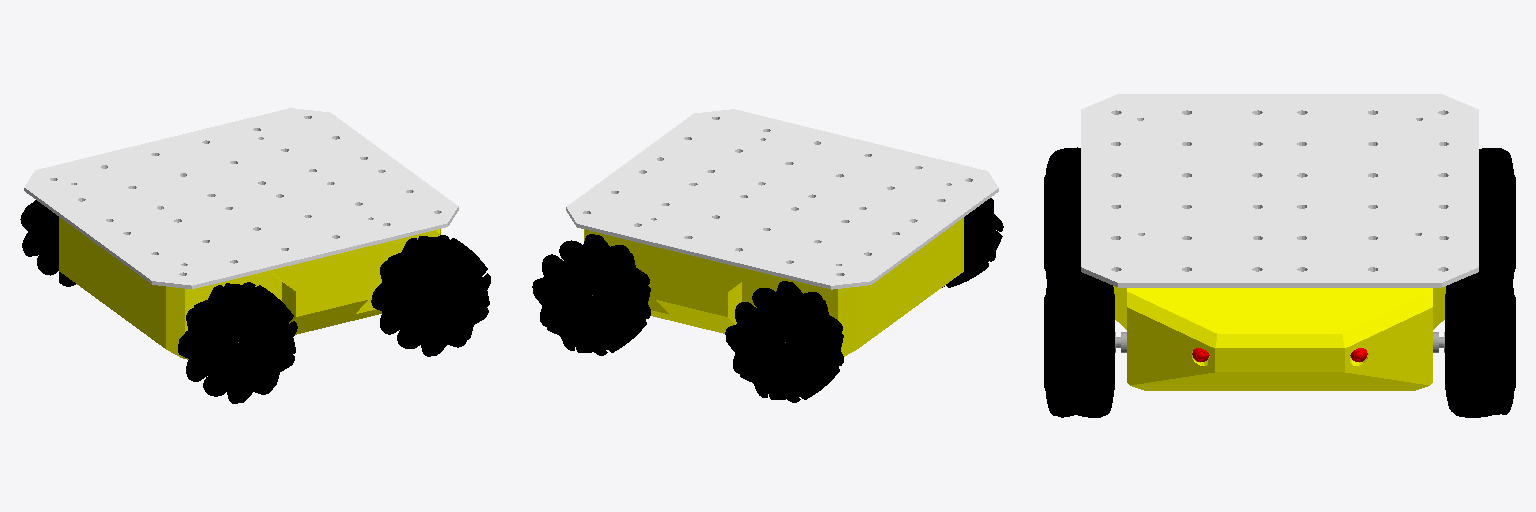
The robot description file, URDF, robot "yellowbot":
<?xml version="1.0" ?>
<robot name="yellowbot">
  <material name="silver">
    <color rgba="0.700 0.700 0.700 1.000"/>
  </material>
  
  <material name="yellow">
    <color rgba="1.0 1.0 0.0 1.000"/>
  </material>
  
  <material name="red">
    <color rgba="1.0 0.0 0.0 1.000"/>
  </material>

  <material name="black">
    <color rgba="0.0 0.0 0.0 1.000"/>
  </material>

  <material name="white">
    <color rgba="1.0 1.0 1.0 1.000"/>
  </material>

  <transmission name="back_right_motor_revolute_tran">
    <type>transmission_interface/SimpleTransmission</type>
    <joint name="back_right_motor_revolute">
      <hardwareInterface>hardware_interface/EffortJointInterface</hardwareInterface>
    </joint>
    <actuator name="back_right_motor_revolute_actr">
      <hardwareInterface>hardware_interface/EffortJointInterface</hardwareInterface>
      <mechanicalReduction>1</mechanicalReduction>
    </actuator>
  </transmission>
  <transmission name="front_right_motor_revolute_tran">
    <type>transmission_interface/SimpleTransmission</type>
    <joint name="front_right_motor_revolute">
      <hardwareInterface>hardware_interface/EffortJointInterface</hardwareInterface>
    </joint>
    <actuator name="front_right_motor_revolute_actr">
      <hardwareInterface>hardware_interface/EffortJointInterface</hardwareInterface>
      <mechanicalReduction>1</mechanicalReduction>
    </actuator>
  </transmission>
  <transmission name="back_left_motor_revolute_tran">
    <type>transmission_interface/SimpleTransmission</type>
    <joint name="back_left_motor_revolute">
      <hardwareInterface>hardware_interface/EffortJointInterface</hardwareInterface>
    </joint>
    <actuator name="back_left_motor_revolute_actr">
      <hardwareInterface>hardware_interface/EffortJointInterface</hardwareInterface>
      <mechanicalReduction>1</mechanicalReduction>
    </actuator>
  </transmission>
  <transmission name="front_left_motor_revolute_tran">
    <type>transmission_interface/SimpleTransmission</type>
    <joint name="front_left_motor_revolute">
      <hardwareInterface>hardware_interface/EffortJointInterface</hardwareInterface>
    </joint>
    <actuator name="front_left_motor_revolute_actr">
      <hardwareInterface>hardware_interface/EffortJointInterface</hardwareInterface>
      <mechanicalReduction>1</mechanicalReduction>
    </actuator>
  </transmission>
  <gazebo>
    <plugin filename="libgazebo_ros_control.so" name="control"/>
  </gazebo>
  <gazebo reference="base_link">
    <material>Gazebo/Silver</material>
    <mu1>0.2</mu1>
    <mu2>0.2</mu2>
    <selfCollide>true</selfCollide>
    <gravity>true</gravity>
  </gazebo>
  <gazebo reference="motor_1">
    <material>Gazebo/Silver</material>
    <mu1>0.2</mu1>
    <mu2>0.2</mu2>
    <selfCollide>true</selfCollide>
  </gazebo>
  <gazebo reference="motor_coupling_1">
    <material>Gazebo/Silver</material>
    <mu1>0.2</mu1>
    <mu2>0.2</mu2>
    <selfCollide>true</selfCollide>
  </gazebo>
  <gazebo reference="wheel_1">
    <material>Gazebo/Silver</material>
    <mu1>0.2</mu1>
    <mu2>0.2</mu2>
    <selfCollide>true</selfCollide>
  </gazebo>
  <gazebo reference="motor_2">
    <material>Gazebo/Silver</material>
    <mu1>0.2</mu1>
    <mu2>0.2</mu2>
    <selfCollide>true</selfCollide>
  </gazebo>
  <gazebo reference="motor_coupling_2">
    <material>Gazebo/Silver</material>
    <mu1>0.2</mu1>
    <mu2>0.2</mu2>
    <selfCollide>true</selfCollide>
  </gazebo>
  <gazebo reference="wheel_2">
    <material>Gazebo/Silver</material>
    <mu1>0.2</mu1>
    <mu2>0.2</mu2>
    <selfCollide>true</selfCollide>
  </gazebo>
  <gazebo reference="motor_3">
    <material>Gazebo/Silver</material>
    <mu1>0.2</mu1>
    <mu2>0.2</mu2>
    <selfCollide>true</selfCollide>
  </gazebo>
  <gazebo reference="motor_coupling_3">
    <material>Gazebo/Silver</material>
    <mu1>0.2</mu1>
    <mu2>0.2</mu2>
    <selfCollide>true</selfCollide>
  </gazebo>
  <gazebo reference="wheel_3">
    <material>Gazebo/Silver</material>
    <mu1>0.2</mu1>
    <mu2>0.2</mu2>
    <selfCollide>true</selfCollide>
  </gazebo>
  <gazebo reference="motor_4">
    <material>Gazebo/Silver</material>
    <mu1>0.2</mu1>
    <mu2>0.2</mu2>
    <selfCollide>true</selfCollide>
  </gazebo>
  <gazebo reference="motor_coupling_4">
    <material>Gazebo/Silver</material>
    <mu1>0.2</mu1>
    <mu2>0.2</mu2>
    <selfCollide>true</selfCollide>
  </gazebo>
  <gazebo reference="wheel_4">
    <material>Gazebo/Silver</material>
    <mu1>0.2</mu1>
    <mu2>0.2</mu2>
    <selfCollide>true</selfCollide>
  </gazebo>
  <gazebo reference="top_plate_1">
    <material>Gazebo/Silver</material>
    <mu1>0.2</mu1>
    <mu2>0.2</mu2>
    <selfCollide>true</selfCollide>
  </gazebo>
  <gazebo reference="led_left_1">
    <material>Gazebo/Silver</material>
    <mu1>0.2</mu1>
    <mu2>0.2</mu2>
    <selfCollide>true</selfCollide>
  </gazebo>
  <gazebo reference="led_left_2">
    <material>Gazebo/Silver</material>
    <mu1>0.2</mu1>
    <mu2>0.2</mu2>
    <selfCollide>true</selfCollide>
  </gazebo>
  <link name="base_link">
    <inertial>
      <origin rpy="0 0 0" xyz="-0.00206432938820023 0.006489755577388898 0.047290903878465275"/>
      <mass value="0.1499965356563348"/>
      <inertia ixx="0.000768" ixy="-0.0" ixz="-1.5e-05" iyy="0.001019" iyz="0.0" izz="0.001598"/>
    </inertial>
    <visual>
      <origin rpy="0 0 0" xyz="0 0 0"/>
      <geometry>
        <mesh filename="package://yellowbot_description/meshes/base_link.stl" scale="0.001 0.001 0.001"/>
      </geometry>
      <material name="yellow"/>
    </visual>
    <collision>
      <origin rpy="0 0 0" xyz="0 0 0"/>
      <geometry>
        <mesh filename="package://yellowbot_description/meshes/base_link.stl" scale="0.001 0.001 0.001"/>
      </geometry>
    </collision>
  </link>
  <link name="motor_1">
    <inertial>
      <origin rpy="0 0 0" xyz="3.2484737044605194e-05 0.02242577012997863 0.006797512893081892"/>
      <mass value="0.15999999835535966"/>
      <inertia ixx="4.6e-05" ixy="-0.0" ixz="-0.0" iyy="2.4e-05" iyz="-1e-06" izz="4.6e-05"/>
    </inertial>
    <visual>
      <origin rpy="0 0 0" xyz="0.082977 0.07731 -0.042706"/>
      <geometry>
        <mesh filename="package://yellowbot_description/meshes/motor_1.stl" scale="0.001 0.001 0.001"/>
      </geometry>
      <material name="silver"/>
    </visual>
    <collision>
      <origin rpy="0 0 0" xyz="0.082977 0.07731 -0.042706"/>
      <geometry>
        <mesh filename="package://yellowbot_description/meshes/motor_1.stl" scale="0.001 0.001 0.001"/>
      </geometry>
    </collision>
  </link>
  <link name="motor_coupling_1">
    <inertial>
      <origin rpy="0 0 0" xyz="-5.366490828107029e-08 0.0018686955681204015 -1.0195534567991604e-07"/>
      <mass value="0.00998364830604544"/>
      <inertia ixx="0.0" ixy="-0.0" ixz="0.0" iyy="0.0" iyz="0.0" izz="0.0"/>
    </inertial>
    <visual>
      <origin rpy="0 0 0" xyz="0.082977 0.09831 -0.042706"/>
      <geometry>
        <mesh filename="package://yellowbot_description/meshes/motor_coupling_1.stl" scale="0.001 0.001 0.001"/>
      </geometry>
      <material name="silver"/>
    </visual>
    <collision>
      <origin rpy="0 0 0" xyz="0.082977 0.09831 -0.042706"/>
      <geometry>
        <mesh filename="package://yellowbot_description/meshes/motor_coupling_1.stl" scale="0.001 0.001 0.001"/>
      </geometry>
    </collision>
  </link>
  <link name="wheel_1">
    <inertial>
      <origin rpy="0 0 0" xyz="-1.5129472803659949e-05 -0.0020913737286088613 1.306794214284146e-05"/>
      <mass value="0.13998197723426226"/>
      <inertia ixx="7.8e-05" ixy="0.0" ixz="-0.0" iyy="0.000129" iyz="-0.0" izz="7.8e-05"/>
    </inertial>
    <visual>
      <origin rpy="0 0 0" xyz="0.082977 0.10431 -0.042706"/>
      <geometry>
        <mesh filename="package://yellowbot_description/meshes/wheel_1.stl" scale="0.001 0.001 0.001"/>
      </geometry>
      <material name="black"/>
    </visual>
    <collision>
      <origin rpy="0 0 0" xyz="0.082977 0.10431 -0.042706"/>
      <geometry>
        <mesh filename="package://yellowbot_description/meshes/wheel_1.stl" scale="0.001 0.001 0.001"/>
      </geometry>
    </collision>
  </link>
  <link name="motor_2">
    <inertial>
      <origin rpy="0 0 0" xyz="0.2358554847370447 -0.11197222987002067 0.018797512893081927"/>
      <mass value="0.15999999835535966"/>
      <inertia ixx="4.6e-05" ixy="-0.0" ixz="-0.0" iyy="2.4e-05" iyz="-1e-06" izz="4.6e-05"/>
    </inertial>
    <visual>
      <origin rpy="0 0 0" xyz="0.1588 -0.057088 -0.030706"/>
      <geometry>
        <mesh filename="package://yellowbot_description/meshes/motor_2.stl" scale="0.001 0.001 0.001"/>
      </geometry>
      <material name="silver"/>
    </visual>
    <collision>
      <origin rpy="0 0 0" xyz="0.1588 -0.057088 -0.030706"/>
      <geometry>
        <mesh filename="package://yellowbot_description/meshes/motor_2.stl" scale="0.001 0.001 0.001"/>
      </geometry>
    </collision>
  </link>
  <link name="motor_coupling_2">
    <inertial>
      <origin rpy="0 0 0" xyz="0.15999994633509196 0.0018686955681210676 -1.0195534574930498e-07"/>
      <mass value="0.00998364830604544"/>
      <inertia ixx="0.0" ixy="-0.0" ixz="0.0" iyy="0.0" iyz="0.0" izz="0.0"/>
    </inertial>
    <visual>
      <origin rpy="0 0 0" xyz="0.082977 0.09831 -0.042706"/>
      <geometry>
        <mesh filename="package://yellowbot_description/meshes/motor_coupling_2.stl" scale="0.001 0.001 0.001"/>
      </geometry>
      <material name="silver"/>
    </visual>
    <collision>
      <origin rpy="0 0 0" xyz="0.082977 0.09831 -0.042706"/>
      <geometry>
        <mesh filename="package://yellowbot_description/meshes/motor_coupling_2.stl" scale="0.001 0.001 0.001"/>
      </geometry>
    </collision>
  </link>
  <link name="wheel_2">
    <inertial>
      <origin rpy="0 0 0" xyz="0.1599848705271962 -0.0020913737286080286 1.3067942142806765e-05"/>
      <mass value="0.13998197723426226"/>
      <inertia ixx="7.8e-05" ixy="0.0" ixz="-0.0" iyy="0.000129" iyz="-0.0" izz="7.8e-05"/>
    </inertial>
    <visual>
      <origin rpy="0 0 0" xyz="0.082977 0.10431 -0.042706"/>
      <geometry>
        <mesh filename="package://yellowbot_description/meshes/wheel_2.stl" scale="0.001 0.001 0.001"/>
      </geometry>
      <material name="black"/>
    </visual>
    <collision>
      <origin rpy="0 0 0" xyz="0.082977 0.10431 -0.042706"/>
      <geometry>
        <mesh filename="package://yellowbot_description/meshes/wheel_2.stl" scale="0.001 0.001 0.001"/>
      </geometry>
    </collision>
  </link>
  <link name="motor_3">
    <inertial>
      <origin rpy="0 0 0" xyz="-0.09180959206686148 -0.14922425897520103 0.018797512893082343"/>
      <mass value="0.15999999835535966"/>
      <inertia ixx="4.6e-05" ixy="-0.0" ixz="0.0" iyy="2.4e-05" iyz="1e-06" izz="4.6e-05"/>
    </inertial>
    <visual>
      <origin rpy="0 0 0" xyz="-0.0088 -0.217088 -0.030706"/>
      <geometry>
        <mesh filename="package://yellowbot_description/meshes/motor_3.stl" scale="0.001 0.001 0.001"/>
      </geometry>
      <material name="silver"/>
    </visual>
    <collision>
      <origin rpy="0 0 0" xyz="-0.0088 -0.217088 -0.030706"/>
      <geometry>
        <mesh filename="package://yellowbot_description/meshes/motor_3.stl" scale="0.001 0.001 0.001"/>
      </geometry>
    </collision>
  </link>
  <link name="motor_coupling_3">
    <inertial>
      <origin rpy="0 0 0" xyz="-5.36649086141372e-08 0.20773081558665762 -1.0195534513868232e-07"/>
      <mass value="0.00998364830604544"/>
      <inertia ixx="0.0" ixy="0.0" ixz="0.0" iyy="0.0" iyz="-0.0" izz="0.0"/>
    </inertial>
    <visual>
      <origin rpy="0 0 0" xyz="0.082977 0.09831 -0.042706"/>
      <geometry>
        <mesh filename="package://yellowbot_description/meshes/motor_coupling_3.stl" scale="0.001 0.001 0.001"/>
      </geometry>
      <material name="silver"/>
    </visual>
    <collision>
      <origin rpy="0 0 0" xyz="0.082977 0.09831 -0.042706"/>
      <geometry>
        <mesh filename="package://yellowbot_description/meshes/motor_coupling_3.stl" scale="0.001 0.001 0.001"/>
      </geometry>
    </collision>
  </link>
  <link name="wheel_3">
    <inertial>
      <origin rpy="0 0 0" xyz="1.5022142987042297e-05 0.22369088488338681 1.3067942143389633e-05"/>
      <mass value="0.13998197723426226"/>
      <inertia ixx="7.8e-05" ixy="0.0" ixz="0.0" iyy="0.000129" iyz="0.0" izz="7.8e-05"/>
    </inertial>
    <visual>
      <origin rpy="0 0 0" xyz="0.082977 0.10431 -0.042706"/>
      <geometry>
        <mesh filename="package://yellowbot_description/meshes/wheel_3.stl" scale="0.001 0.001 0.001"/>
      </geometry>
      <material name="black"/>
    </visual>
    <collision>
      <origin rpy="0 0 0" xyz="0.082977 0.10431 -0.042706"/>
      <geometry>
        <mesh filename="package://yellowbot_description/meshes/wheel_3.stl" scale="0.001 0.001 0.001"/>
      </geometry>
    </collision>
  </link>
  <link name="motor_4">
    <inertial>
      <origin rpy="0 0 0" xyz="0.06819040793313862 0.010775741024799251 0.018797512893082322"/>
      <mass value="0.15999999835535966"/>
      <inertia ixx="4.6e-05" ixy="-0.0" ixz="0.0" iyy="2.4e-05" iyz="1e-06" izz="4.6e-05"/>
    </inertial>
    <visual>
      <origin rpy="0 0 0" xyz="-0.0088 -0.057088 -0.030706"/>
      <geometry>
        <mesh filename="package://yellowbot_description/meshes/motor_4.stl" scale="0.001 0.001 0.001"/>
      </geometry>
      <material name="silver"/>
    </visual>
    <collision>
      <origin rpy="0 0 0" xyz="-0.0088 -0.057088 -0.030706"/>
      <geometry>
        <mesh filename="package://yellowbot_description/meshes/motor_4.stl" scale="0.001 0.001 0.001"/>
      </geometry>
    </collision>
  </link>
  <link name="motor_coupling_4">
    <inertial>
      <origin rpy="0 0 0" xyz="0.15999994633509151 0.20773081558665746 -1.0195534522888794e-07"/>
      <mass value="0.00998364830604544"/>
      <inertia ixx="0.0" ixy="0.0" ixz="0.0" iyy="0.0" iyz="-0.0" izz="0.0"/>
    </inertial>
    <visual>
      <origin rpy="0 0 0" xyz="0.082977 0.09831 -0.042706"/>
      <geometry>
        <mesh filename="package://yellowbot_description/meshes/motor_coupling_4.stl" scale="0.001 0.001 0.001"/>
      </geometry>
      <material name="silver"/>
    </visual>
    <collision>
      <origin rpy="0 0 0" xyz="0.082977 0.09831 -0.042706"/>
      <geometry>
        <mesh filename="package://yellowbot_description/meshes/motor_coupling_4.stl" scale="0.001 0.001 0.001"/>
      </geometry>
    </collision>
  </link>
  <link name="wheel_4">
    <inertial>
      <origin rpy="0 0 0" xyz="0.16001502214298716 0.2236908848833868 1.3067942143348e-05"/>
      <mass value="0.13998197723426226"/>
      <inertia ixx="7.8e-05" ixy="0.0" ixz="0.0" iyy="0.000129" iyz="0.0" izz="7.8e-05"/>
    </inertial>
    <visual>
      <origin rpy="0 0 0" xyz="0.082977 0.10431 -0.042706"/>
      <geometry>
        <mesh filename="package://yellowbot_description/meshes/wheel_4.stl" scale="0.001 0.001 0.001"/>
      </geometry>
      <material name="black"/>
    </visual>
    <collision>
      <origin rpy="0 0 0" xyz="0.082977 0.10431 -0.042706"/>
      <geometry>
        <mesh filename="package://yellowbot_description/meshes/wheel_4.stl" scale="0.001 0.001 0.001"/>
      </geometry>
    </collision>
  </link>
  <link name="top_plate_1">
    <inertial>
      <origin rpy="0 0 0" xyz="0.09255747874690023 -0.0788862444226099 0.0015000000000010283"/>
      <mass value="0.1899633311246887"/>
      <inertia ixx="0.000783" ixy="0.0" ixz="-0.0" iyy="0.000987" iyz="0.0" izz="0.001769"/>
    </inertial>
    <visual>
      <origin rpy="0 0 0" xyz="0.107594 -0.085376 -0.093"/>
      <geometry>
        <mesh filename="package://yellowbot_description/meshes/top_plate_1.stl" scale="0.001 0.001 0.001"/>
      </geometry>
      <material name="white"/>
    </visual>
    <collision>
      <origin rpy="0 0 0" xyz="0.107594 -0.085376 -0.093"/>
      <geometry>
        <mesh filename="package://yellowbot_description/meshes/top_plate_1.stl" scale="0.001 0.001 0.001"/>
      </geometry>
    </collision>
  </link>
  <link name="led_left_1">
    <inertial>
      <origin rpy="0 0 0" xyz="-0.0027217086827567988 -1.393754581276857e-05 2.4764199174076573e-05"/>
      <mass value="0.010031319984296835"/>
      <inertia ixx="0.0" ixy="0.0" ixz="-0.0" iyy="0.0" iyz="0.0" izz="0.0"/>
    </inertial>
    <visual>
      <origin rpy="0 0 0" xyz="-0.11951 -0.051133 -0.055448"/>
      <geometry>
        <mesh filename="package://yellowbot_description/meshes/led_left_1.stl" scale="0.001 0.001 0.001"/>
      </geometry>
      <material name="red"/>
    </visual>
    <collision>
      <origin rpy="0 0 0" xyz="-0.11951 -0.051133 -0.055448"/>
      <geometry>
        <mesh filename="package://yellowbot_description/meshes/led_left_1.stl" scale="0.001 0.001 0.001"/>
      </geometry>
    </collision>
  </link>
  <link name="led_left_2">
    <inertial>
      <origin rpy="0 0 0" xyz="0.23643129131724333 -0.05276755093930272 0.012024764199173692"/>
      <mass value="0.010031319984296835"/>
      <inertia ixx="0.0" ixy="0.0" ixz="-0.0" iyy="0.0" iyz="0.0" izz="0.0"/>
    </inertial>
    <visual>
      <origin rpy="0 0 0" xyz="0.119643 -0.0146 -0.043448"/>
      <geometry>
        <mesh filename="package://yellowbot_description/meshes/led_left_2.stl" scale="0.001 0.001 0.001"/>
      </geometry>
      <material name="red"/>
    </visual>
    <collision>
      <origin rpy="0 0 0" xyz="0.119643 -0.0146 -0.043448"/>
      <geometry>
        <mesh filename="package://yellowbot_description/meshes/led_left_2.stl" scale="0.001 0.001 0.001"/>
      </geometry>
    </collision>
  </link>
  <joint name="base_link_back_right_motor" type="fixed">
    <origin rpy="0 0 0" xyz="-0.082977 -0.07731 0.042706"/>
    <parent link="base_link"/>
    <child link="motor_1"/>
  </joint>
  <joint name="back_right_motor_revolute" type="continuous">
    <origin rpy="0 0 0" xyz="0.0 -0.021 0.0"/>
    <parent link="motor_1"/>
    <child link="motor_coupling_1"/>
    <axis xyz="-0.0 -1.0 -0.0"/>
  </joint>
  <joint name="back_right_motor_rigid" type="fixed">
    <origin rpy="0 0 0" xyz="0.0 -0.006 0.0"/>
    <parent link="motor_coupling_1"/>
    <child link="wheel_1"/>
  </joint>
  <joint name="base_link_front_right_motor" type="fixed">
    <origin rpy="0 0 0" xyz="-0.1588 0.057088 0.030706"/>
    <parent link="base_link"/>
    <child link="motor_2"/>
  </joint>
  <joint name="front_right_motor_revolute" type="continuous">
    <origin rpy="0 0 0" xyz="0.075823 -0.155398 0.012"/>
    <parent link="motor_2"/>
    <child link="motor_coupling_2"/>
    <axis xyz="-0.0 -1.0 -0.0"/>
  </joint>
  <joint name="front_right_motor_rigid" type="fixed">
    <origin rpy="0 0 0" xyz="0.0 -0.006 0.0"/>
    <parent link="motor_coupling_2"/>
    <child link="wheel_2"/>
  </joint>
  <joint name="base_link_back_left_motor" type="fixed">
    <origin rpy="0 0 0" xyz="0.0088 0.217088 0.030706"/>
    <parent link="base_link"/>
    <child link="motor_3"/>
  </joint>
  <joint name="back_left_motor_revolute" type="continuous">
    <origin rpy="0 0 0" xyz="-0.091777 -0.315398 0.012"/>
    <parent link="motor_3"/>
    <child link="motor_coupling_3"/>
    <axis xyz="0.0 1.0 0.0"/>
  </joint>
  <joint name="back_left_motor_rigid" type="fixed">
    <origin rpy="0 0 0" xyz="0.0 -0.006 0.0"/>
    <parent link="motor_coupling_3"/>
    <child link="wheel_3"/>
  </joint>
  <joint name="base_link_front_left_motor" type="fixed">
    <origin rpy="0 0 0" xyz="0.0088 0.057088 0.030706"/>
    <parent link="base_link"/>
    <child link="motor_4"/>
  </joint>
  <joint name="front_left_motor_revolute" type="continuous">
    <origin rpy="0 0 0" xyz="-0.091777 -0.155398 0.012"/>
    <parent link="motor_4"/>
    <child link="motor_coupling_4"/>
    <axis xyz="0.0 1.0 0.0"/>
  </joint>
  <joint name="front_left_motor_rigid" type="fixed">
    <origin rpy="0 0 0" xyz="0.0 -0.006 0.0"/>
    <parent link="motor_coupling_4"/>
    <child link="wheel_4"/>
  </joint>
  <joint name="base_link_top_plate" type="fixed">
    <origin rpy="0 0 0" xyz="-0.107594 0.085376 0.093"/>
    <parent link="base_link"/>
    <child link="top_plate_1"/>
  </joint>
  <joint name="base_link_left_led" type="fixed">
    <origin rpy="0 0 0" xyz="0.11951 0.051133 0.055448"/>
    <parent link="base_link"/>
    <child link="led_left_1"/>
  </joint>
  <joint name="base_link_right_led" type="fixed">
    <origin rpy="0 0 0" xyz="-0.119643 0.0146 0.043448"/>
    <parent link="base_link"/>
    <child link="led_left_2"/>
  </joint>
</robot>

--- Facts derived from the render (not from the file) ---
Views: 3 orthographic renders of the robot side by side, from view 1: azimuth 30°, elevation 25°; view 2: azimuth 150°, elevation 25°; view 3: azimuth 270°, elevation 25°.
Robot: yellowbot — 16 links, 15 joints (4 continuous, 11 fixed); root link base_link; default pose: all joints at 0.
Links seen in each view (by area): view 1: top_plate_1, base_link, wheel_2, wheel_1, wheel_3; view 2: top_plate_1, base_link, wheel_4, wheel_3, wheel_1; view 3: top_plate_1, base_link, wheel_2, wheel_4, wheel_1, wheel_3.
Link boxes in pixels (bbox=[...]): top_plate_1: bbox=[24, 108, 458, 288]; base_link: bbox=[59, 217, 440, 359]; wheel_2: bbox=[371, 235, 490, 356]; wheel_1: bbox=[178, 282, 297, 403]; wheel_3: bbox=[20, 200, 75, 286]; top_plate_1: bbox=[566, 109, 998, 289]; base_link: bbox=[584, 218, 963, 356]; wheel_4: bbox=[532, 234, 650, 355]; wheel_3: bbox=[725, 281, 843, 402]; wheel_1: bbox=[942, 198, 1003, 287]; top_plate_1: bbox=[1081, 94, 1478, 287]; base_link: bbox=[1113, 286, 1445, 390]; wheel_2: bbox=[1044, 267, 1114, 417]; wheel_4: bbox=[1445, 267, 1515, 417]; wheel_1: bbox=[1044, 147, 1080, 282]; wheel_3: bbox=[1479, 148, 1515, 281].
Bounding box of the posed robot: 0.27 × 0.2665 × 0.096 m (x, y, z).
16 mesh visuals loaded from 16 distinct referenced files (16 binary STL).